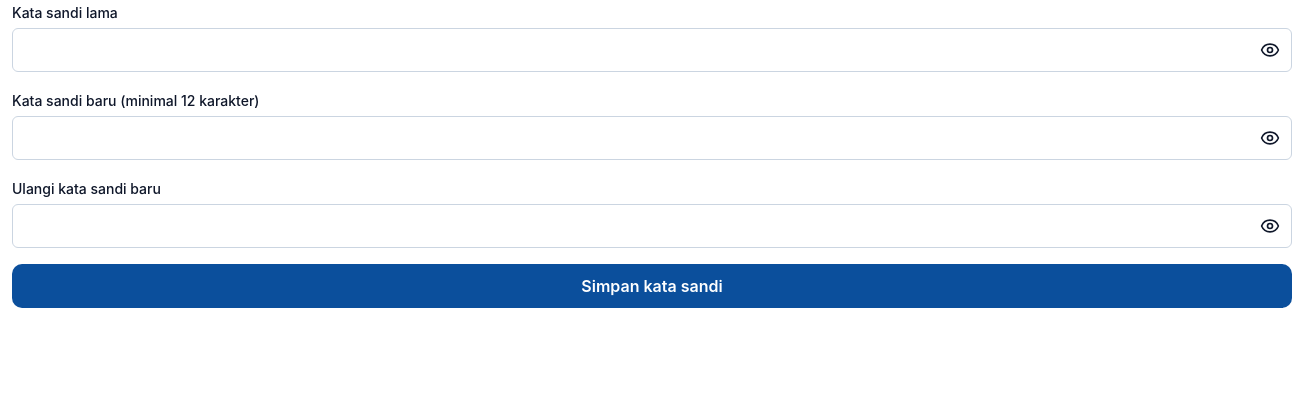
Test: FormGantiPassword › menampilkan pesan koneksi terputus tanpa mengosongkan form saat jaringan gagal
Step 1. Type "lama-12345678" into the password field labelled "Kata sandi lama" → (652, 50), box [12,28,1292,72]
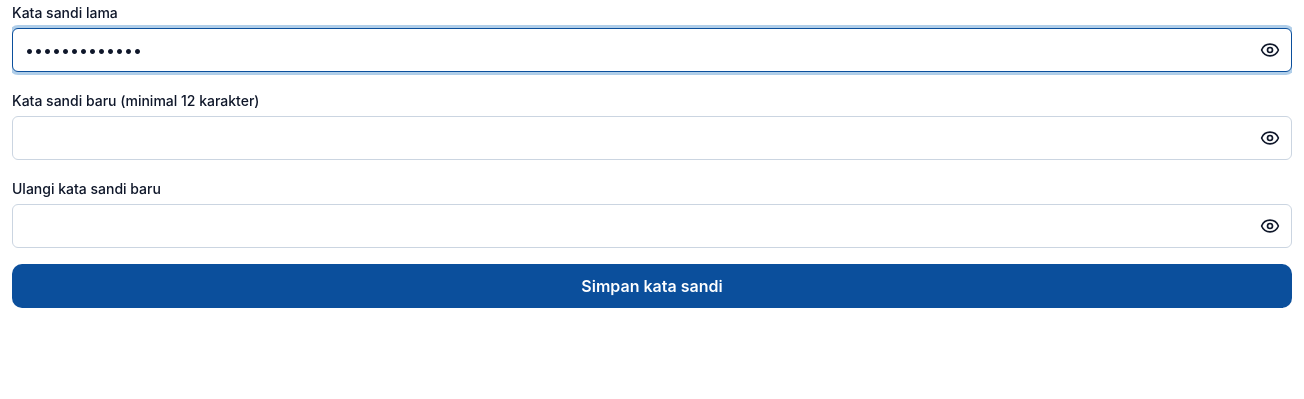
Step 2. Type "baru-98765432" into the password field labelled "Kata sandi baru (minimal 12 karakter)" → (652, 138), box [12,116,1292,160]
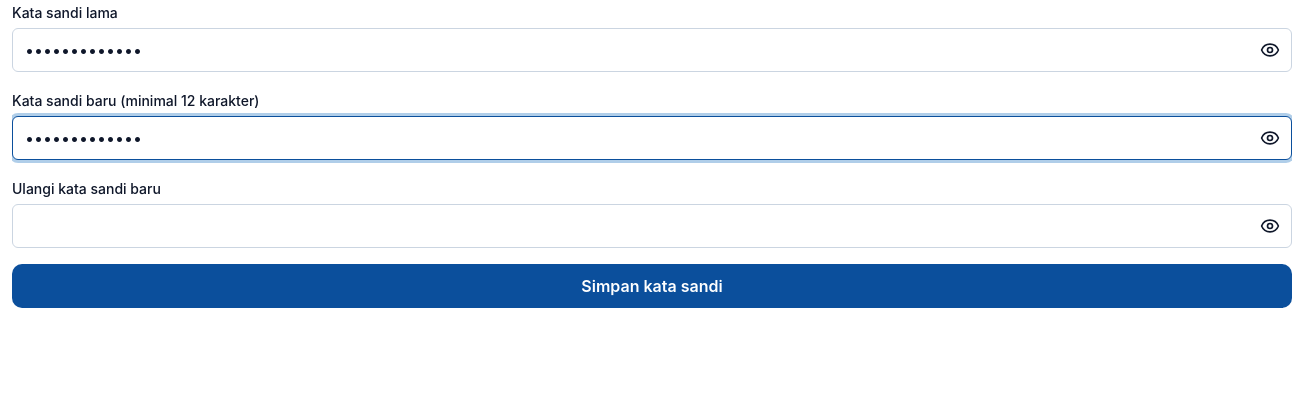
Step 3. Type "baru-98765432" into the password field labelled "Ulangi kata sandi baru" → (652, 226), box [12,204,1292,248]
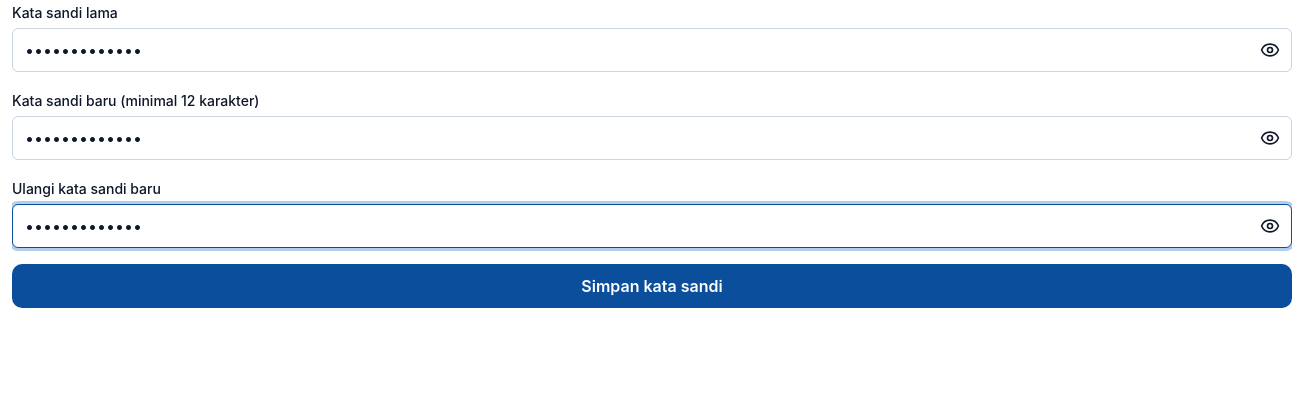
Step 4. Click the button "Simpan kata sandi" → (652, 286), box [12,264,1292,308]
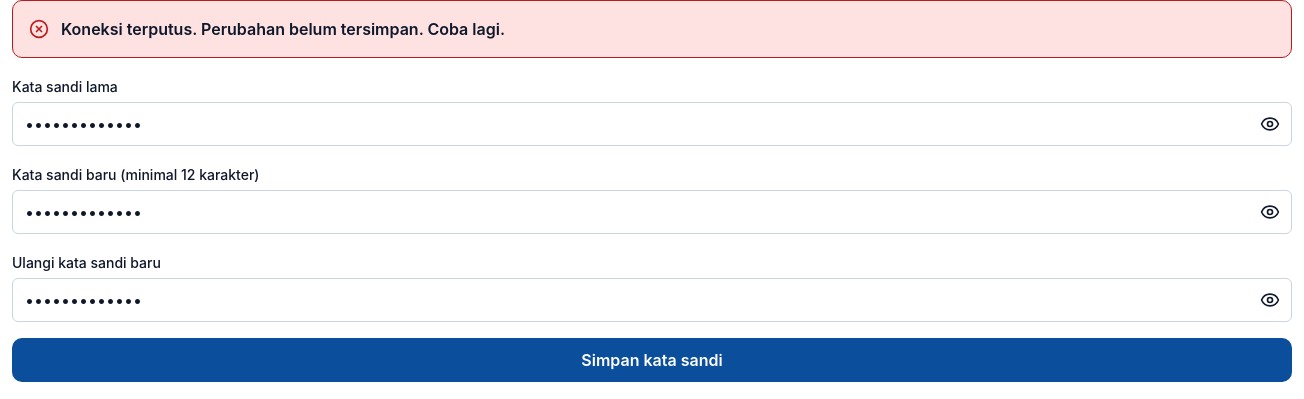
Expected: the message shows "Koneksi terputus", [61,19,505,39]
